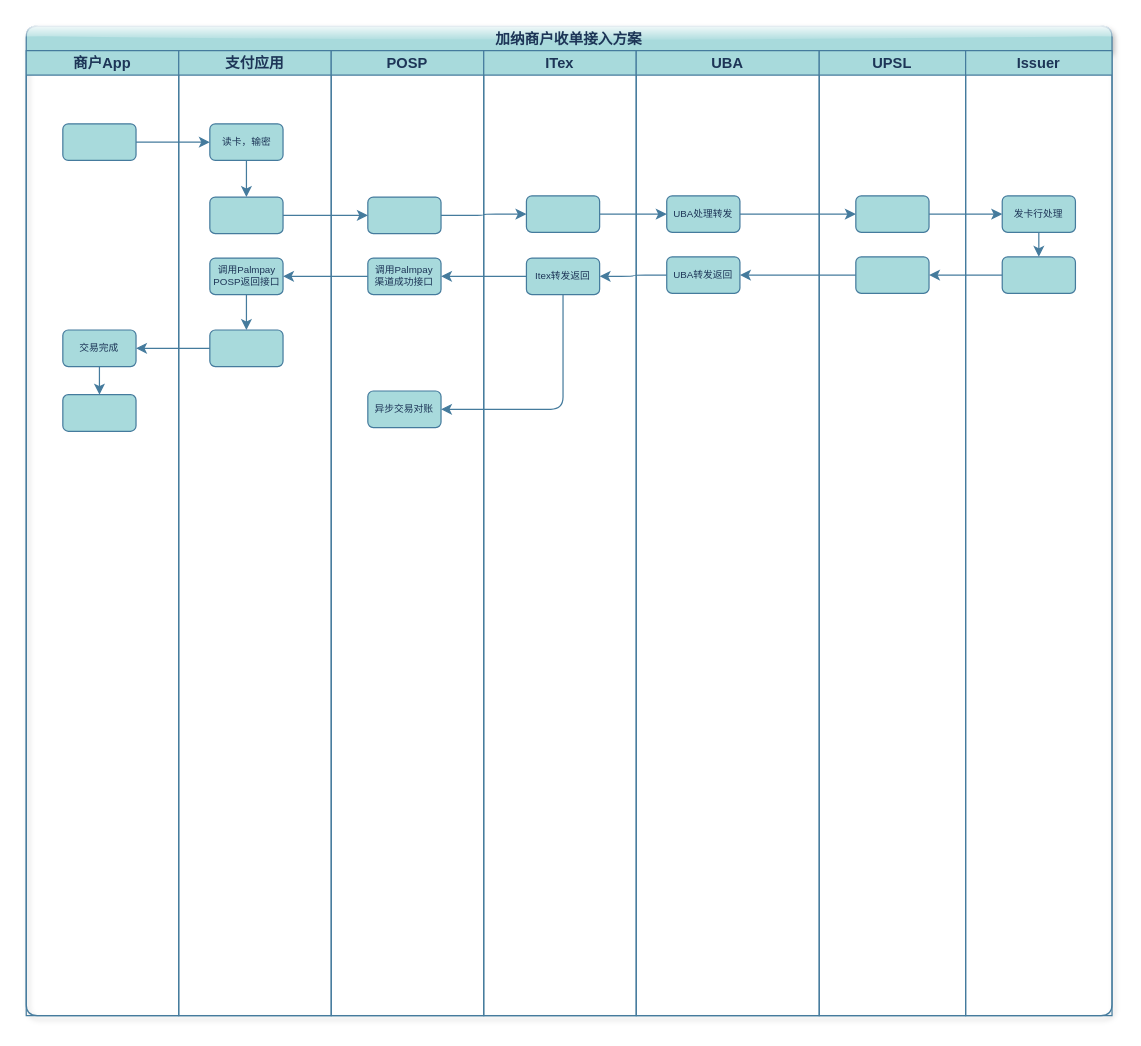
The diagram is 1141 pixels wide and 1046 high, and some of its shapes have lost their labels. The centre of each missing label's shape, as x and y in pixels:
"ITEX转发" belongs at point (562, 213).
"UP处理转发" belongs at point (892, 213).
"UP转发返回" belongs at point (892, 274).
"交易发起" belongs at point (99, 141).
"交易处理完成 通知给Palmpay" belongs at point (246, 348).
"交易结果通知" belongs at point (99, 412).
"处理完成返回" belongs at point (1038, 274).
"调用Palmpay 刷卡通讯接口" belongs at point (246, 215).
"调用Palmpay 后台组包转发" belongs at point (404, 215).
